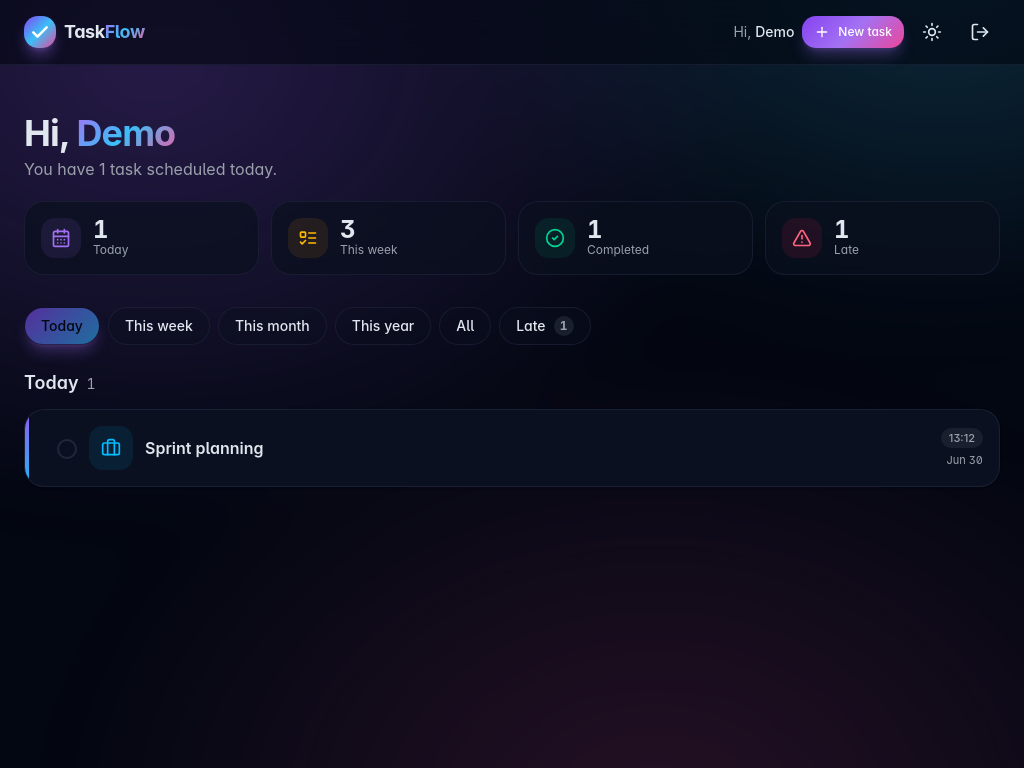
Test: HomePage › switches to the Late filter and shows overdue tasks
Expected: the heading "Sprint planning" is shown, [145, 438, 264, 458]
Click the button "Late 1". click: (545, 326)
box: [499, 307, 591, 345]
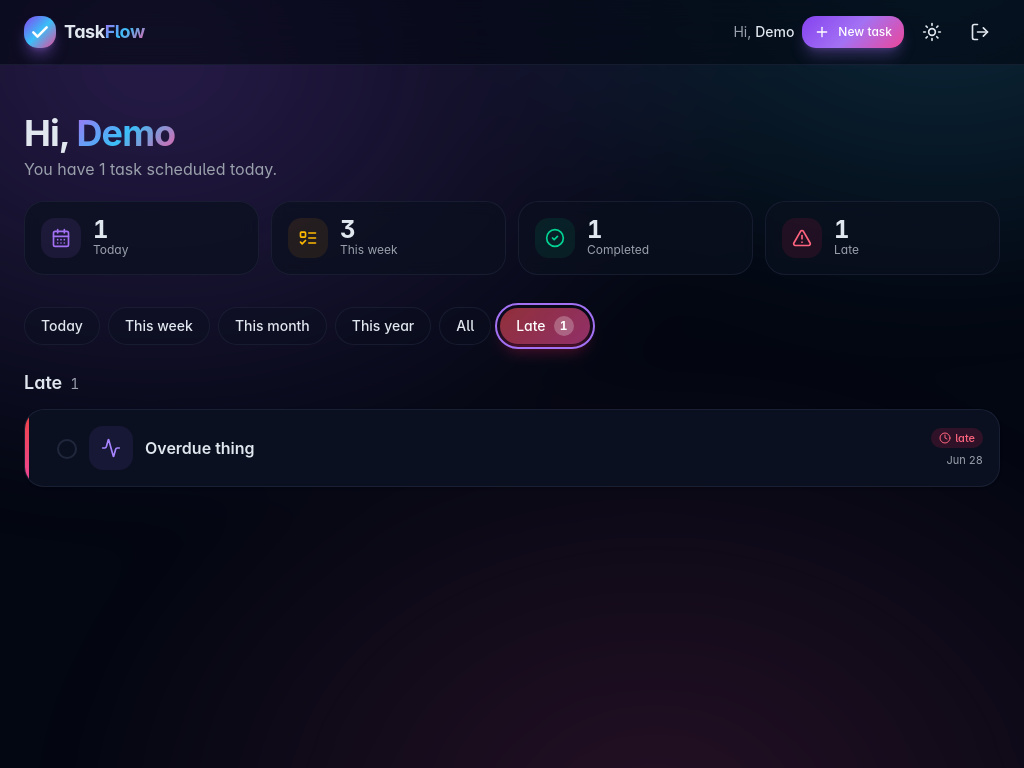
Now the heading "Overdue thing" is shown, box [145, 438, 255, 458]
